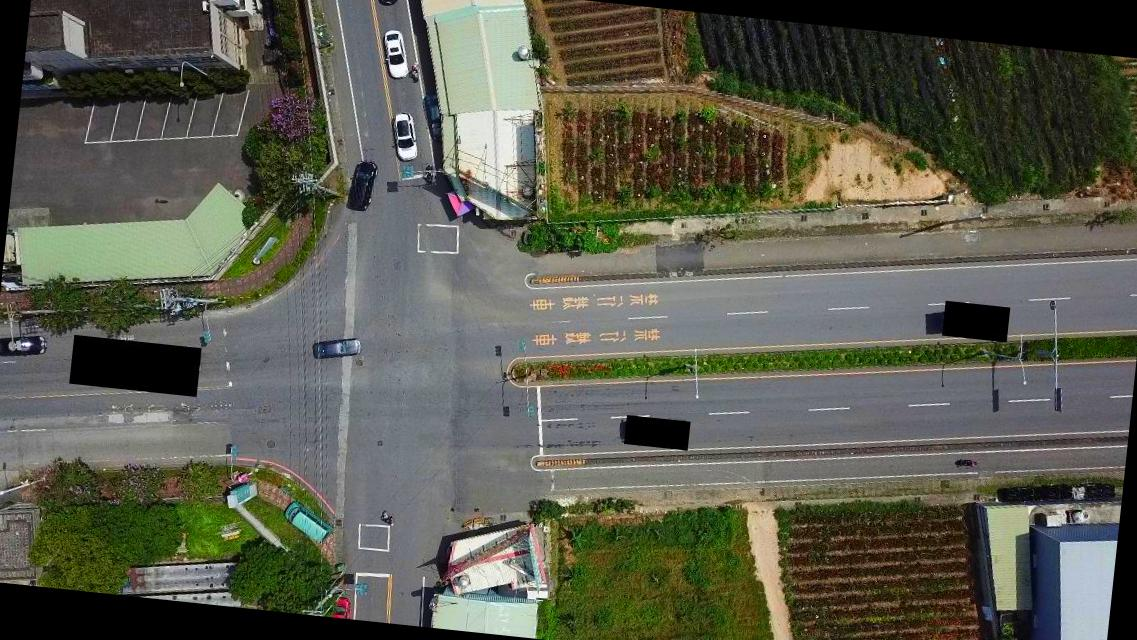vehicle: (282, 502, 334, 546), (389, 110, 422, 163), (308, 336, 364, 366), (381, 28, 412, 80), (0, 328, 48, 361), (348, 160, 376, 212), (418, 94, 446, 142), (331, 594, 353, 618), (373, 0, 402, 9)
